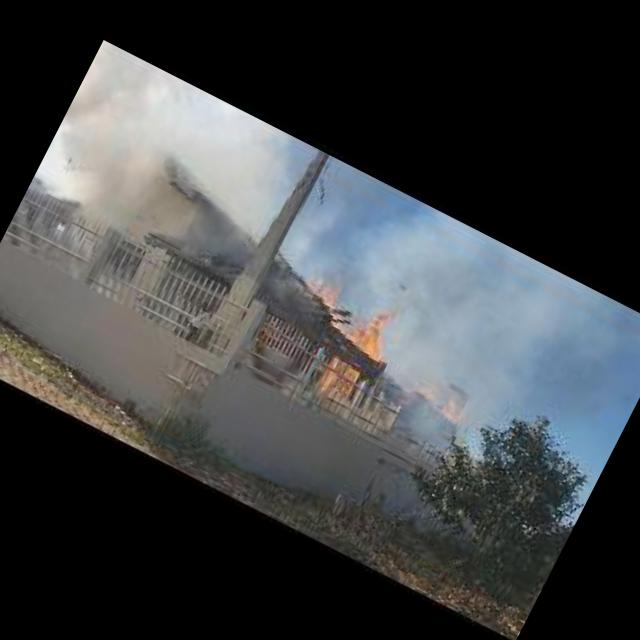fire: (268, 270, 402, 400), (409, 362, 478, 424)
smoke: (314, 178, 640, 440), (48, 60, 304, 305)
